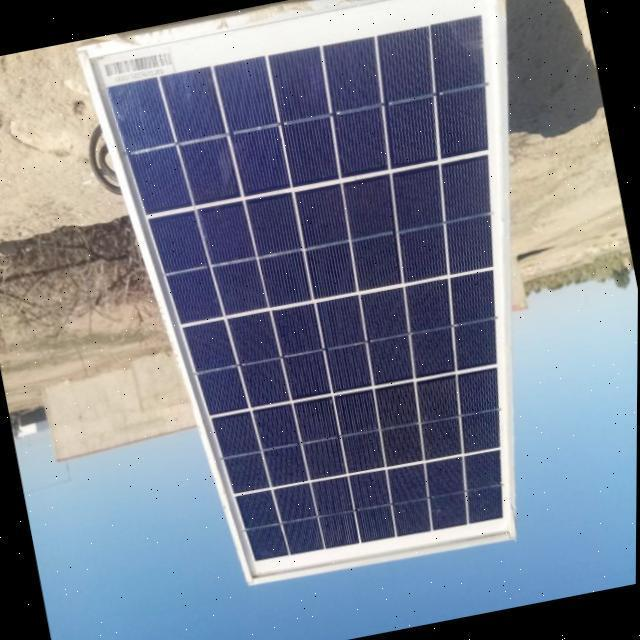Normal Solar Panel: (74, 0, 610, 602)
